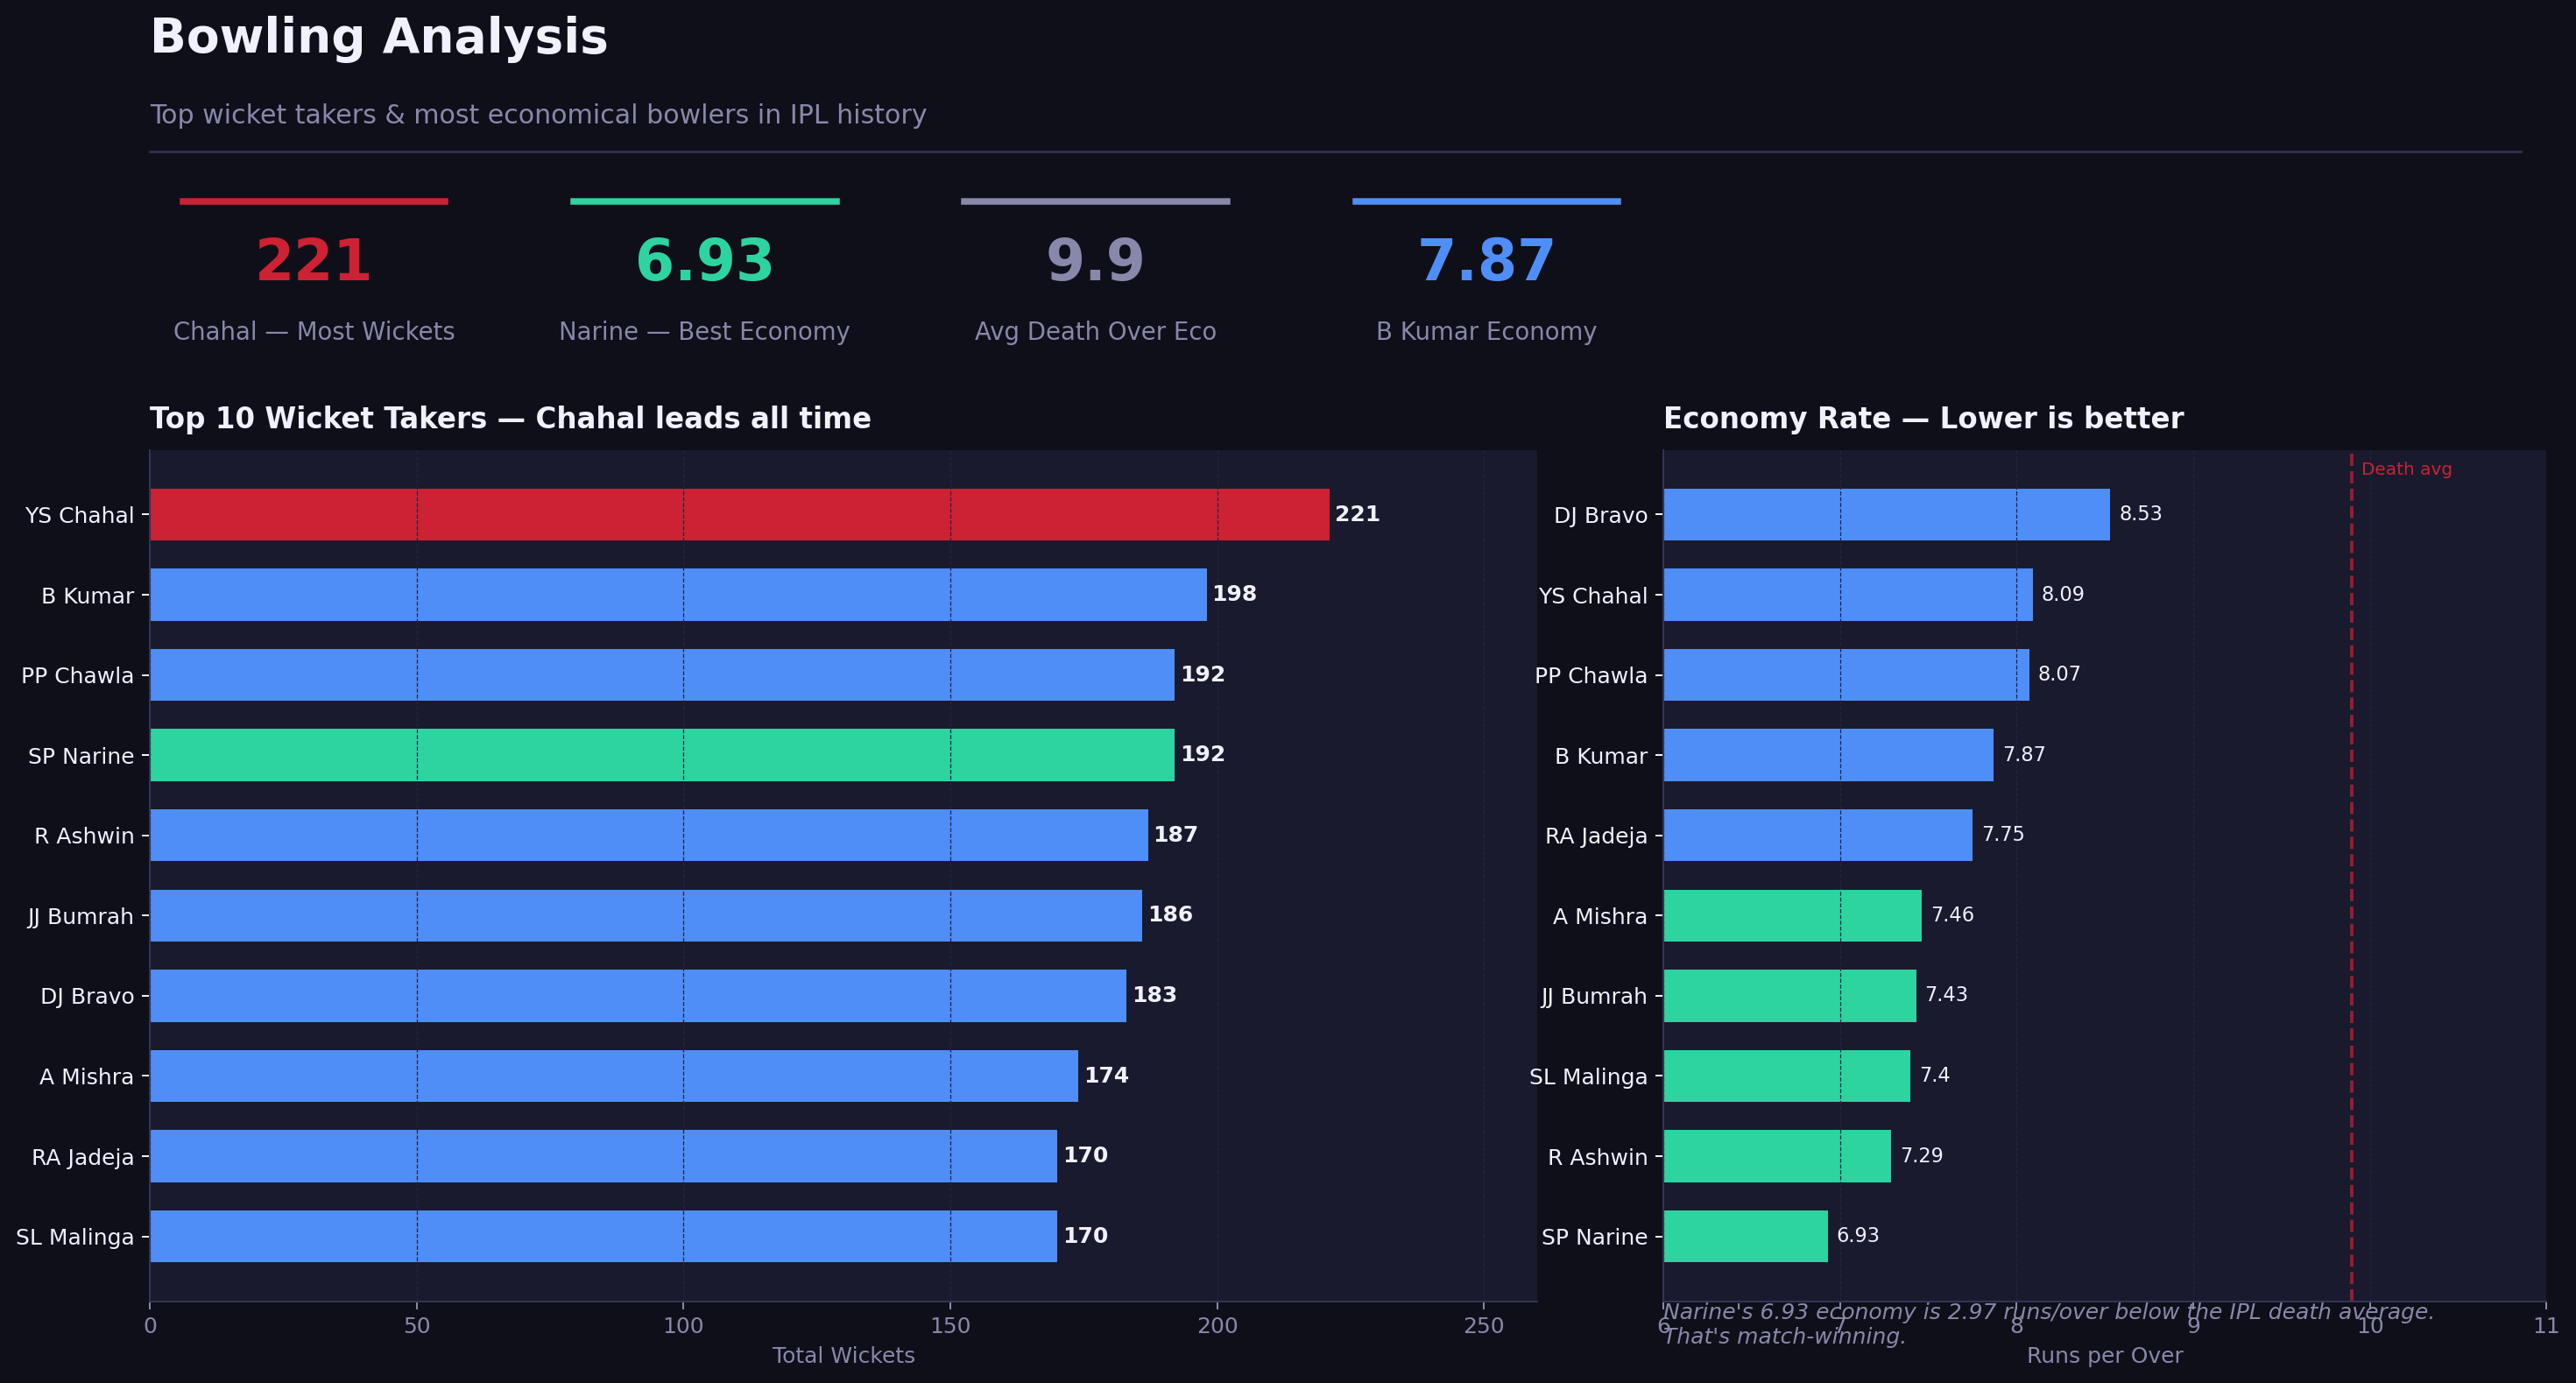

The dashboard page shown, as its layout file describes it:
{"tool":"powerbi","page":{"name":"Bowling","canvas":[1280,720],"ordinal":2},"visuals":[{"type":"clusteredBarChart","fields":{"Category":["pbi_bowlers.bowler"],"Y":["Sum(pbi_bowlers.wickets)"]},"box":[30,64,1218,296],"z":0},{"type":"clusteredBarChart","fields":{"Category":["pbi_bowlers.bowler"],"Y":["Avg(pbi_bowlers.economy)"]},"box":[30,390,1218,330],"z":1},{"type":"textbox","box":[30,0,1218,64],"z":2}]}

Visuals, with their boxes on the page's 1280x720 design canvas (x1, y1, x2, y2). These are canvas units, not pixel positions in the 2576x1383 screenshot, which may show the page scaled, cropped or inside an application window:
clusteredBarChart - pbi_bowlers.bowler x Sum(pbi_bowlers.wickets): l=30, t=64, r=1248, b=360
clusteredBarChart - pbi_bowlers.bowler x Avg(pbi_bowlers.economy): l=30, t=390, r=1248, b=720
textbox: l=30, t=0, r=1248, b=64
